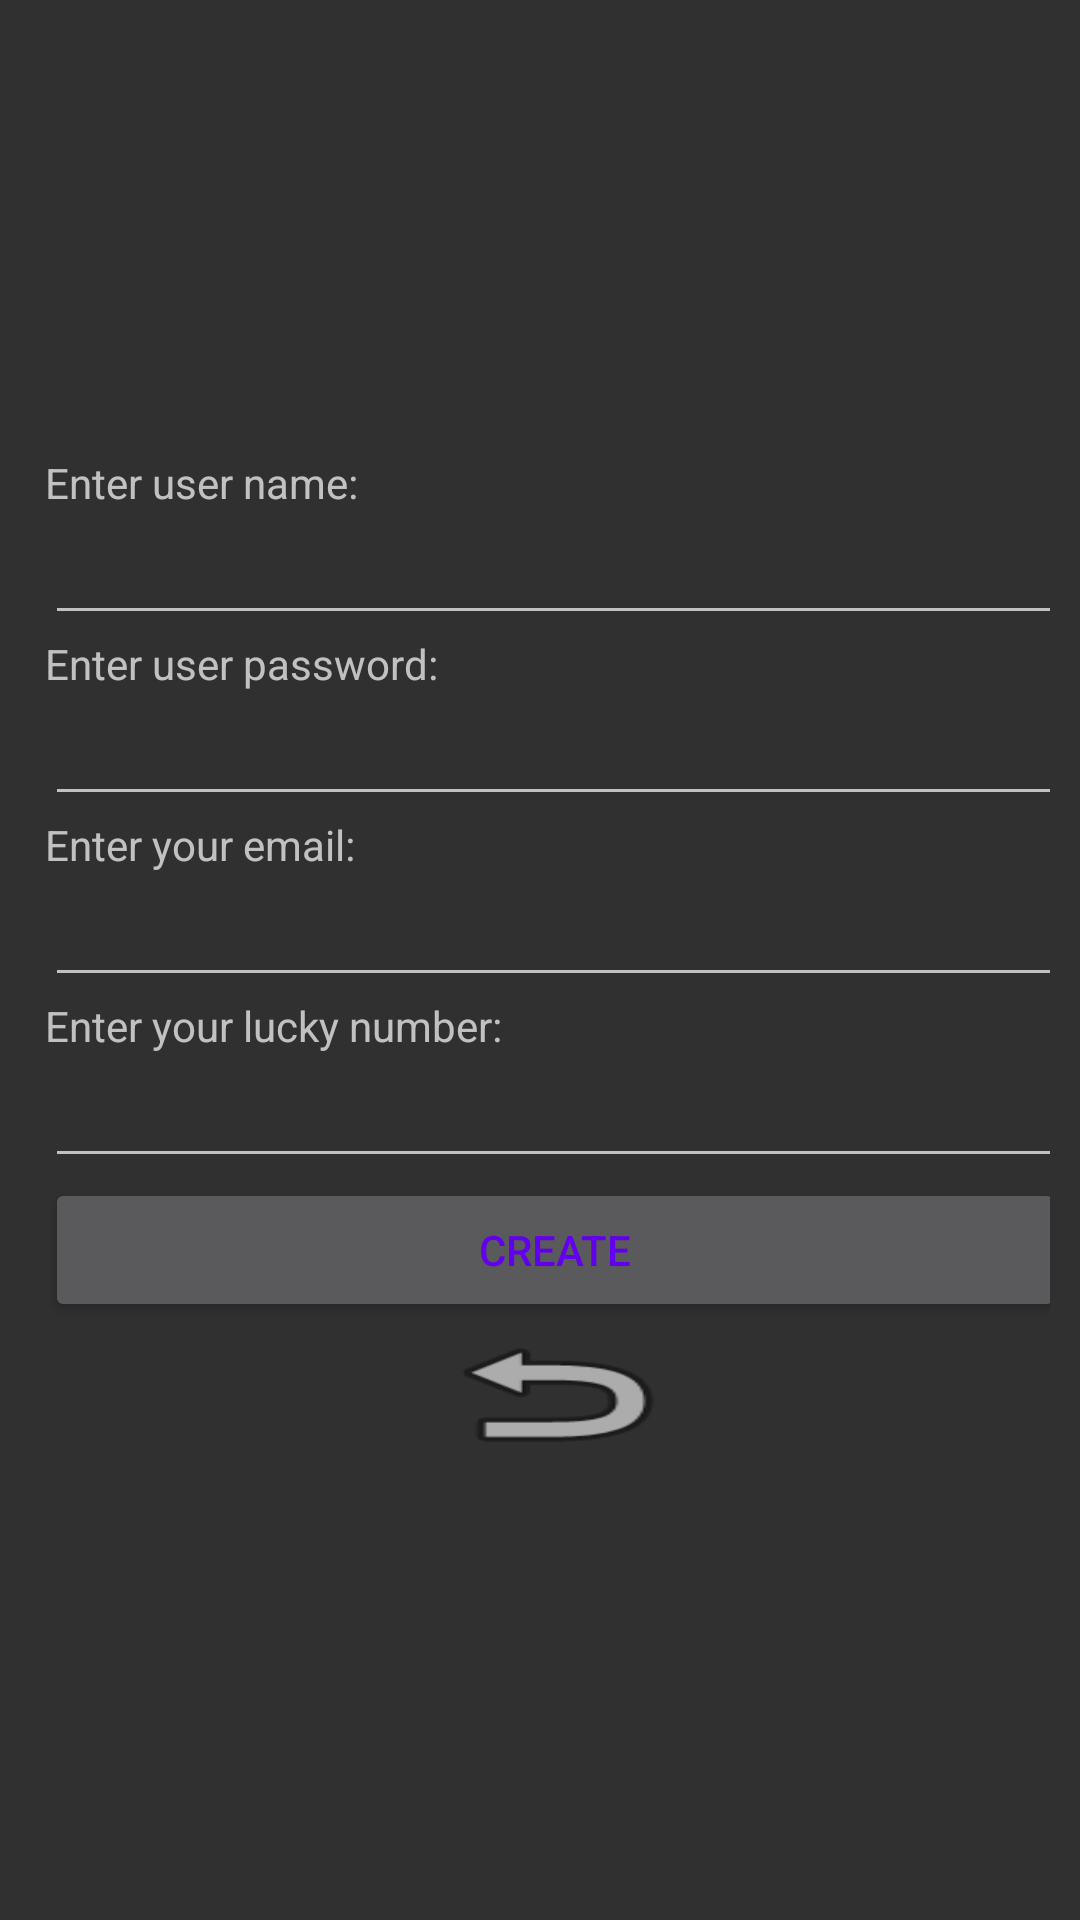

Icon click points for this 1080x1920 phone screenshot, format [x,y]:
revert: [558,1395]
